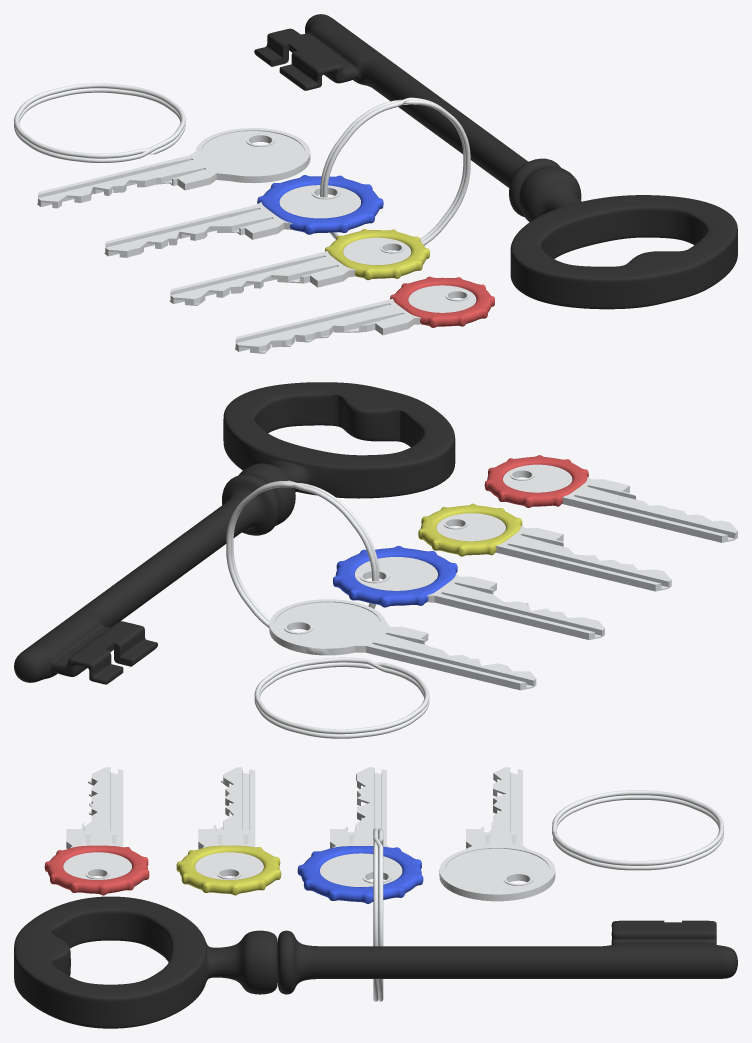
The model's file is key.fbx.
3 renders of one model, top to bottom at view 1: azimuth 30°, elevation 25°; view 2: azimuth 150°, elevation 25°; view 3: azimuth 270°, elevation 25°, orthographic.
Visible parts, largest first — view 1: Cube, Cylinder.016, Cylinder.017, Cylinder.013, Cylinder.011, CurveCircle.002, Cylinder.018, CurveCircle.003, Cylinder.015, Cylinder.014; view 2: Cube, Cylinder.016, Cylinder.017, Cylinder.013, Cylinder.011, CurveCircle.002, Cylinder.018, CurveCircle.003, Cylinder.015, Cylinder.014; view 3: Cube, Cylinder.016, Cylinder.013, Cylinder.017, Cylinder.011, CurveCircle.002, Cylinder.018, Cylinder.015, Cylinder.014, CurveCircle.003.
Boxes of the visible parts, x1,y1,x2,y2 form: Cube: (254,14,737,309); Cylinder.016: (37,128,310,208); Cylinder.017: (104,185,360,257); Cylinder.013: (235,285,476,353); Cylinder.011: (169,237,411,305); CurveCircle.002: (14,83,185,162); Cylinder.018: (257,175,383,234); CurveCircle.003: (320,97,470,251); Cylinder.015: (325,229,429,280); Cylinder.014: (390,276,494,327); Cube: (14,382,455,684); Cylinder.016: (269,599,536,690); Cylinder.017: (354,557,604,639); Cylinder.013: (503,464,737,542); Cylinder.011: (436,513,671,591); CurveCircle.002: (254,657,429,738); Cylinder.018: (333,545,457,607); CurveCircle.003: (226,480,379,627); Cylinder.015: (418,503,522,556); Cylinder.014: (484,455,588,507); Cube: (14,896,737,1028); Cylinder.016: (439,767,555,901); Cylinder.013: (63,767,131,879); Cylinder.017: (320,767,402,886); Cylinder.011: (195,767,263,879); CurveCircle.002: (552,790,723,870); Cylinder.018: (297,846,423,903); Cylinder.015: (176,845,281,895); Cylinder.014: (44,845,149,895); CurveCircle.003: (373,828,383,1001).
Bounding box in the file's own units: 1309 × 391 × 1649.
